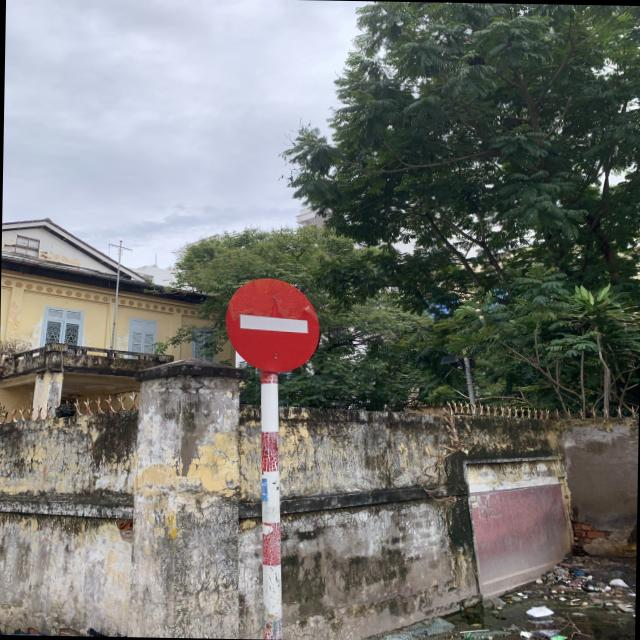Cam_Di_Nguoc_Chieu: (222, 276, 322, 374)
